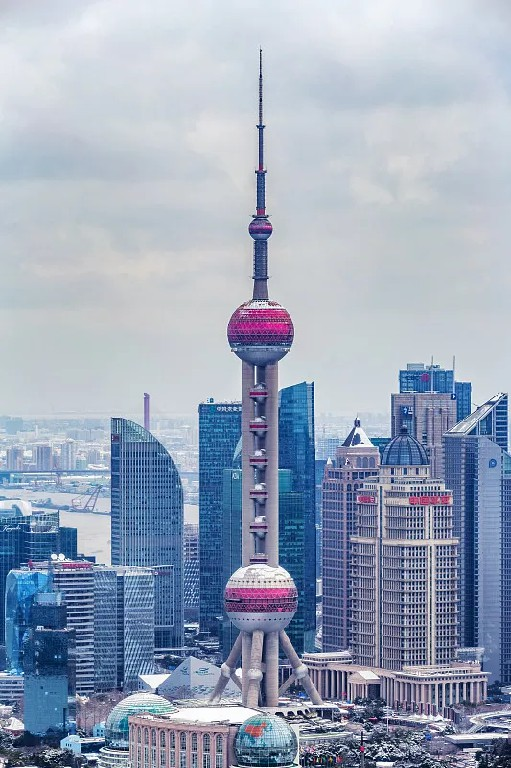Oriental: (209, 48, 325, 704)
